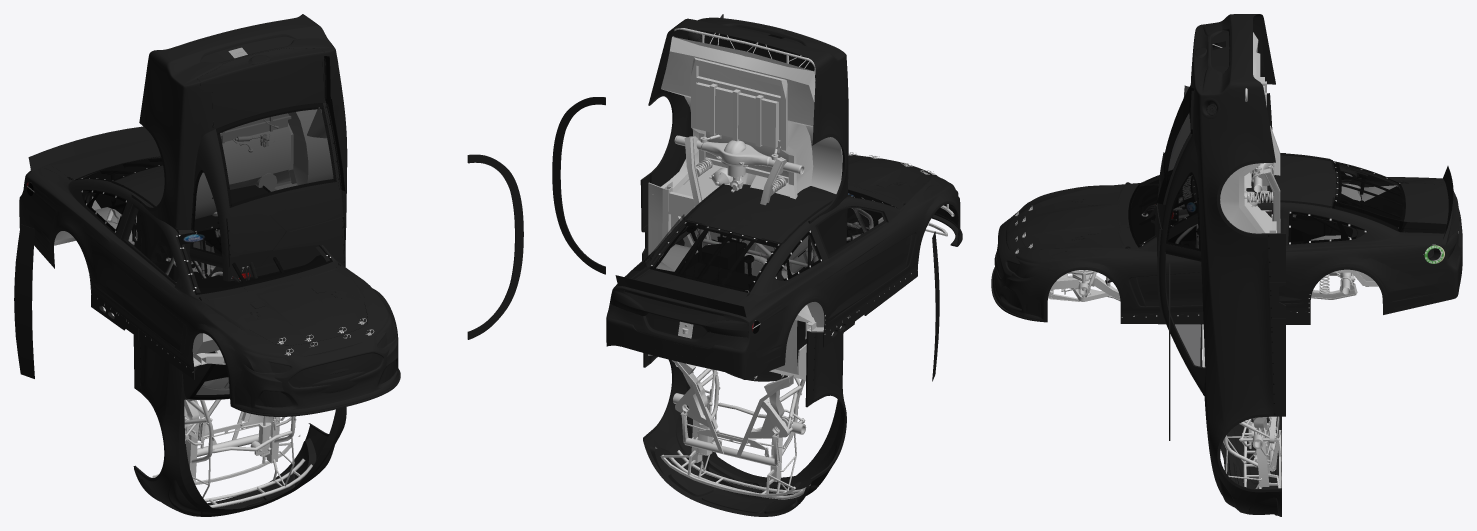
The model's file is N15 Chevy-compressed.glb.
3 views of the same model, side by side, from view 1: azimuth 30°, elevation 25°; view 2: azimuth 150°, elevation 25°; view 3: azimuth 270°, elevation 25° (orthographic). The views are drawn at different scales.
Parts seen in each view (by area): view 1: LOD0_Alt3_DSH_DMG_INSTSMOOTH_SSF_BodyFront.001, LOD0_Alt2_DSH_DMG_INSTSMOOTH_SSF_BodyFront.001, LOD0_Alt0_DSH_DMG_INSTSMOOTH_SSF_BodyFront.001, LOD0_ChasisAss.004, DMG_LOD0_Alt3_DSH_Trunk.001, DMG_LOD0_Alt0_DSH_Bonnet.001, LOD0_DSH_Alt3_DMG_RWing_00.001, DMG_LOD0_Alt2_DSH_Bonnet.001, DMG_LOD0_Alt2_DSH_Trunk.001, LOD0_UPG0_Alt1_InteriorAss, LOD0_DSH_Alt0_DMG_RWing_00.001, DMG_LOD0_FrBarsSym.004 (+4 smaller); view 2: LOD0_ChasisAss.004, LOD0_Alt2_DSH_DMG_INSTSMOOTH_SSF_BodyFront.001, LOD0_Alt3_DSH_DMG_INSTSMOOTH_SSF_BodyFront.001, LOD0_Alt0_DSH_DMG_INSTSMOOTH_SSF_BodyFront.001, LOD0_UPG0_Alt1_InteriorAss, LOD0_DSH_Alt3_DMG_RWing_00.001, DMG_LOD0_FrBarsSym.004, DMG_LOD0_Alt0_DSH_Bonnet.001, DMG_LOD0_Alt2_DSH_Trunk.001, DMG_LOD0_Alt3_DSH_Trunk.001, LOD0_DMG_ChassisSym-l.004, LOD0_DSH_Alt2_DMG_RWing_00 (+9 smaller); view 3: LOD0_Alt3_DSH_DMG_INSTSMOOTH_SSF_BodyFront.001, LOD0_Alt2_DSH_DMG_INSTSMOOTH_SSF_BodyFront.001, LOD0_Alt0_DSH_DMG_INSTSMOOTH_SSF_BodyFront.001, LOD0_ChasisAss.004, DMG_LOD0_Alt0_DSH_Bonnet.001, LOD0_UPG0_Alt1_InteriorAss, LOD0_ChasisAss, DMG_LOD0_Alt2_DSH_Trunk.001, DMG_LOD0_Alt2_DSH_Bonnet.001, DMG_LOD0_Alt2__DSH_WinSurround.001, DMG_LOD0_Alt3_DSH_Trunk.001, DMG_LOD0_FrBarsSym.004 (+1 smaller).
Part boxes in pixels (x1,y1,x2,y2): LOD0_Alt3_DSH_DMG_INSTSMOOTH_SSF_BodyFront.001: (131,14,347,516); LOD0_Alt2_DSH_DMG_INSTSMOOTH_SSF_BodyFront.001: (19,156,396,409); LOD0_Alt0_DSH_DMG_INSTSMOOTH_SSF_BodyFront.001: (19,165,399,414); LOD0_ChasisAss.004: (136,47,333,481); DMG_LOD0_Alt3_DSH_Trunk.001: (197,48,325,129); DMG_LOD0_Alt0_DSH_Bonnet.001: (205,266,367,345); LOD0_DSH_Alt3_DMG_RWing_00.001: (14,154,523,378); DMG_LOD0_Alt2_DSH_Bonnet.001: (199,263,375,358); DMG_LOD0_Alt2_DSH_Trunk.001: (49,139,160,180); LOD0_UPG0_Alt1_InteriorAss: (83,157,320,287); LOD0_DSH_Alt0_DMG_RWing_00.001: (28,126,361,416); DMG_LOD0_FrBarsSym.004: (152,436,312,507); LOD0_ChasisAss.004: (661,33,842,481); LOD0_Alt2_DSH_DMG_INSTSMOOTH_SSF_BodyFront.001: (606,172,960,378); LOD0_Alt3_DSH_DMG_INSTSMOOTH_SSF_BodyFront.001: (640,14,848,516); LOD0_Alt0_DSH_DMG_INSTSMOOTH_SSF_BodyFront.001: (606,154,961,379); LOD0_UPG0_Alt1_InteriorAss: (659,208,882,289); LOD0_DSH_Alt3_DMG_RWing_00.001: (552,97,939,381); DMG_LOD0_FrBarsSym.004: (660,413,810,499); DMG_LOD0_Alt0_DSH_Bonnet.001: (848,155,931,203); DMG_LOD0_Alt2_DSH_Trunk.001: (624,269,747,316); DMG_LOD0_Alt3_DSH_Trunk.001: (714,17,834,79); LOD0_DMG_ChassisSym-l.004: (648,182,736,355); LOD0_DSH_Alt2_DMG_RWing_00: (615,214,953,317); LOD0_Alt3_DSH_DMG_INSTSMOOTH_SSF_BodyFront.001: (1155,14,1285,516); LOD0_Alt2_DSH_DMG_INSTSMOOTH_SSF_BodyFront.001: (994,153,1462,321); LOD0_Alt0_DSH_DMG_INSTSMOOTH_SSF_BodyFront.001: (993,154,1462,324); LOD0_ChasisAss.004: (1204,32,1280,487); DMG_LOD0_Alt0_DSH_Bonnet.001: (1018,186,1128,249); LOD0_UPG0_Alt1_InteriorAss: (1138,174,1402,247); LOD0_ChasisAss: (1048,183,1397,301); DMG_LOD0_Alt2_DSH_Trunk.001: (1400,183,1452,235); DMG_LOD0_Alt2_DSH_Bonnet.001: (1014,182,1128,257); DMG_LOD0_Alt2__DSH_WinSurround.001: (1128,162,1405,247); DMG_LOD0_Alt3_DSH_Trunk.001: (1190,28,1208,131); DMG_LOD0_FrBarsSym.004: (1225,430,1281,488).
Size of the model in its own units: 4.91 by 4.98 by 4.67.
Materials: 15 (6 with a texture image).
